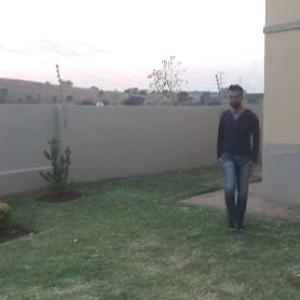follow: (216, 76, 274, 248)
